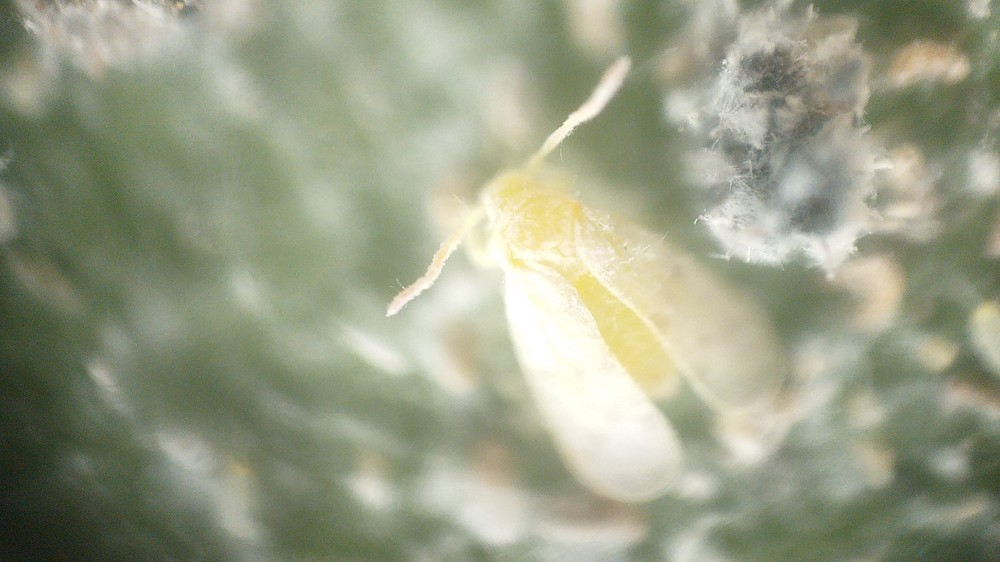Mosca Blanca: (369, 49, 820, 509)
